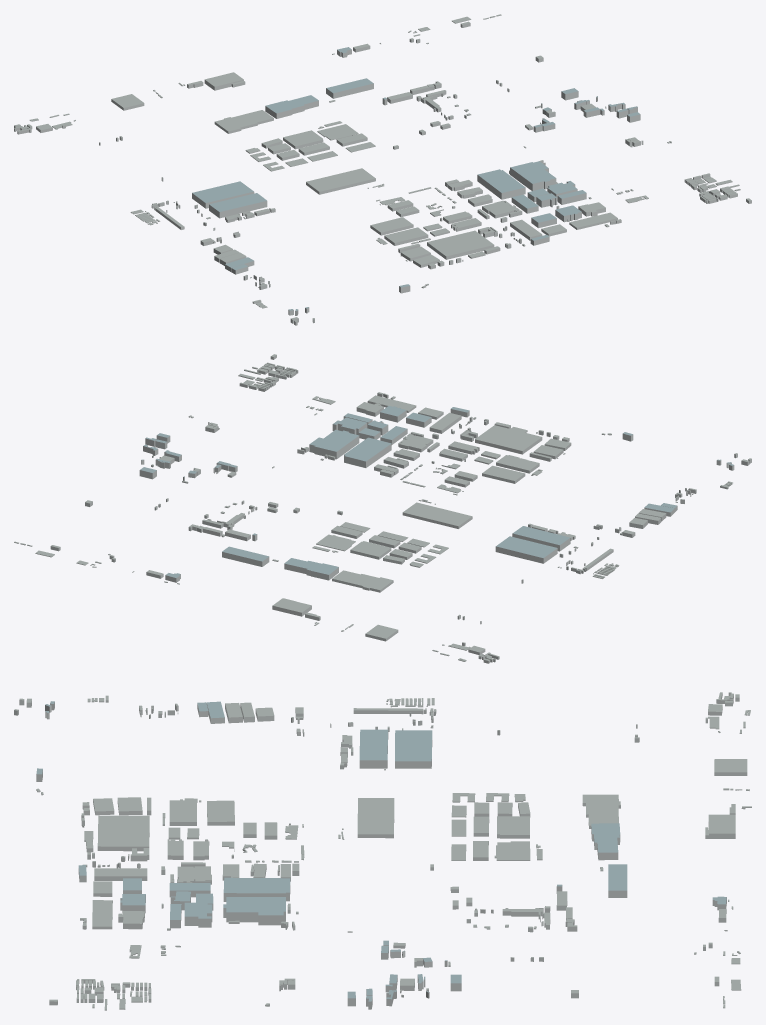
Rendered from far.glb.
3 renders of one model, top to bottom at view 1: azimuth 30°, elevation 25°; view 2: azimuth 150°, elevation 25°; view 3: azimuth 270°, elevation 25°, orthographic. The views are drawn at different scales.
Size of the model in its own units: 2128 by 31.45 by 2109.
